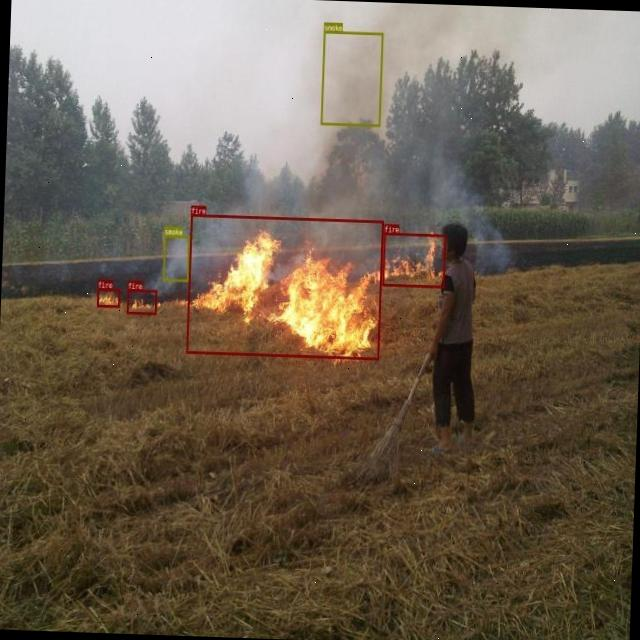fire: (185, 213, 382, 359), (382, 231, 446, 287), (126, 289, 156, 314), (96, 287, 120, 307)
smoke: (320, 30, 382, 126), (162, 234, 189, 280)
